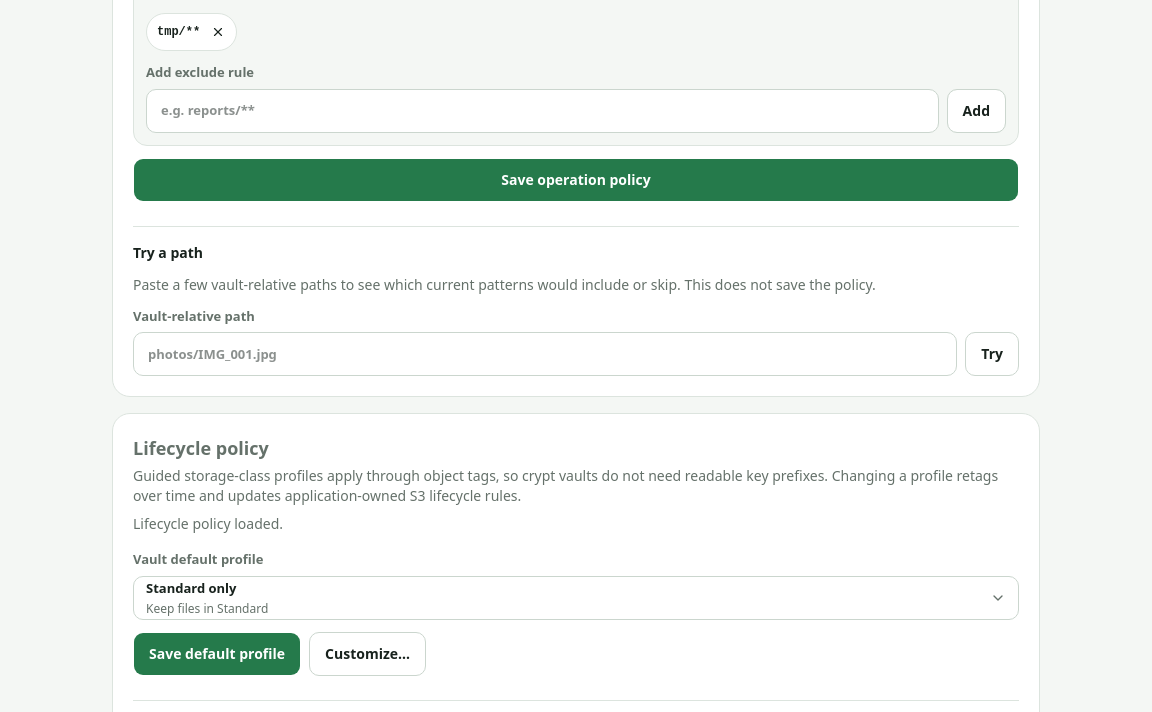
Scenario: VaultAccessPage — operation policy globs (seam 6) › renders include and exclude rules as chips and previews one path
The image size is (1152, 712).
(page scrolled)
Expected: the text "tmp/**" is shown, [157, 24, 200, 40]
Type "docs/a.txt" into the field labelled "Vault-relative path".
click(545, 354); type("docs/a.txt")  # box [133, 332, 957, 376]
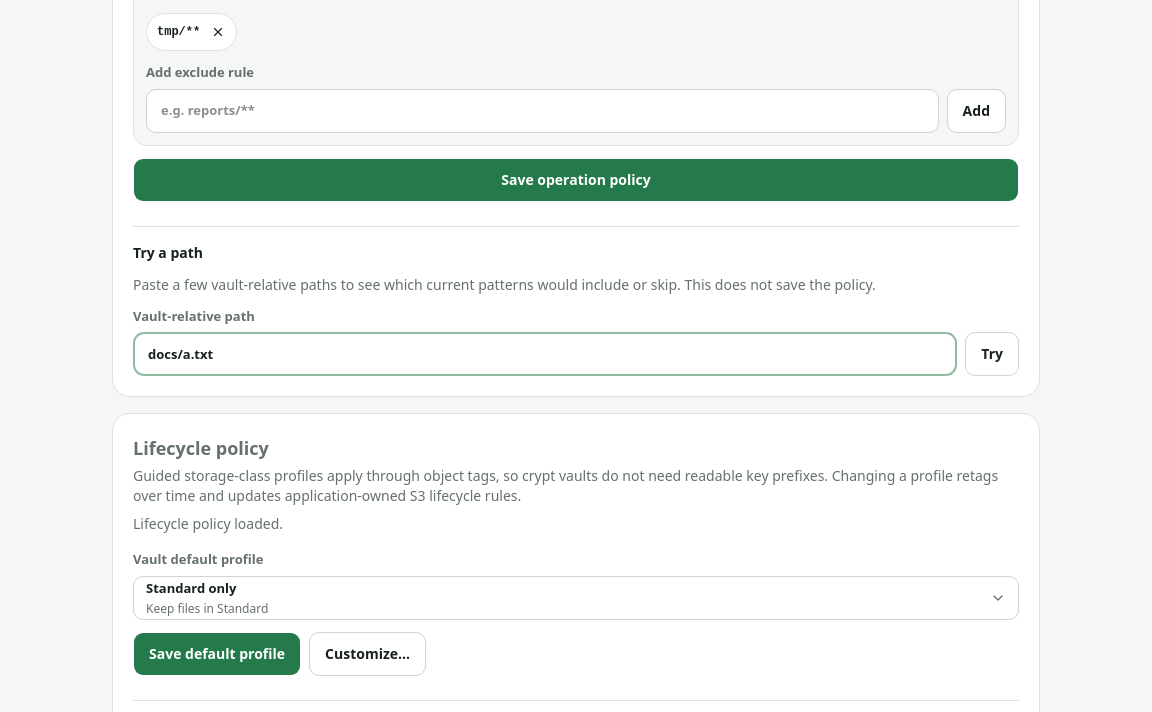
Click the button "Try".
click(992, 354)  # box [965, 332, 1019, 376]
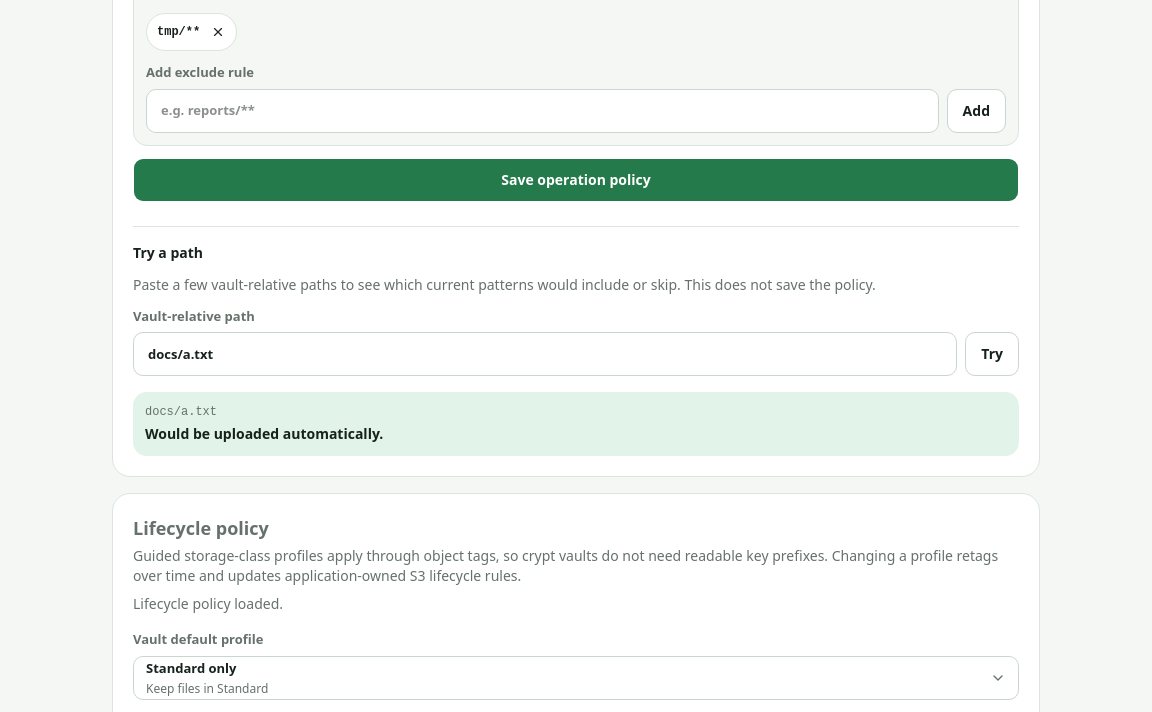
Now the element with test id "glob-preview" shows "docs/a.txt", box [145, 405, 217, 419]
Now the element with test id "glob-preview" shows "Would be uploaded automatically", box [145, 424, 383, 443]
